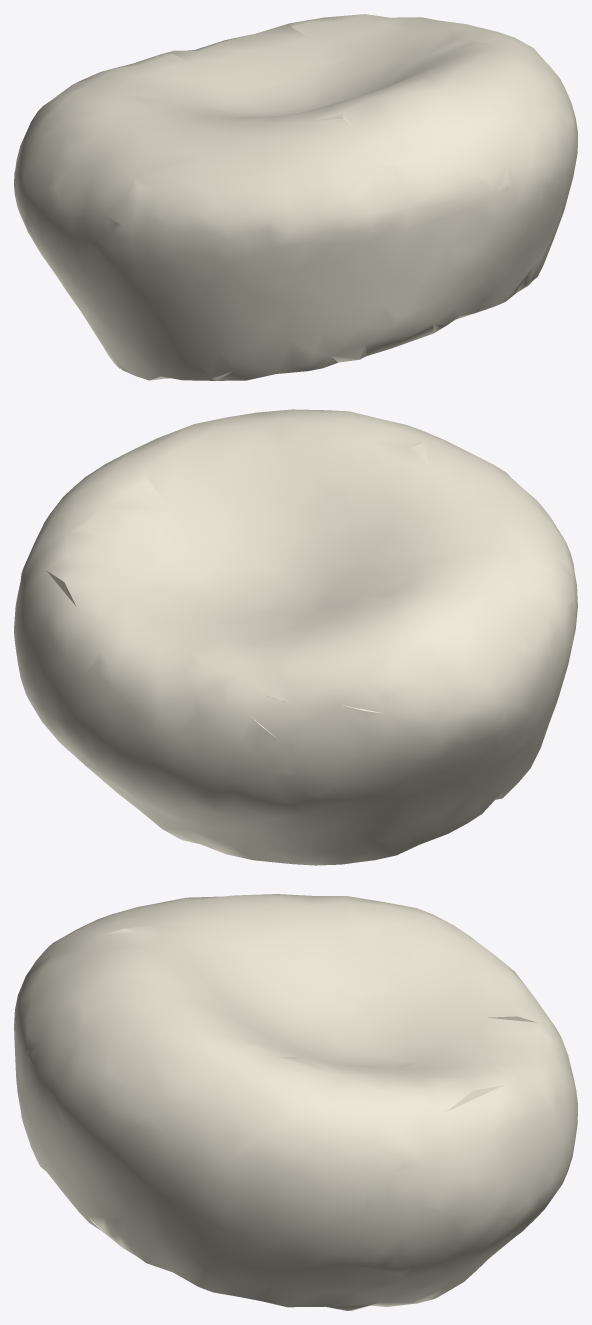
File: fma39781_mm1908m.glb
3 renders of one model, top to bottom at view 1: azimuth 30°, elevation 25°; view 2: azimuth 150°, elevation 25°; view 3: azimuth 270°, elevation 25°, orthographic. The views are drawn at different scales.
Visible parts, largest first — view 1: FMA39781_MM1908M; view 2: FMA39781_MM1908M; view 3: FMA39781_MM1908M.
Boxes of the visible parts, bbox=[...] form: FMA39781_MM1908M: bbox=[14, 14, 577, 380]; FMA39781_MM1908M: bbox=[14, 409, 577, 865]; FMA39781_MM1908M: bbox=[14, 894, 577, 1310].
Size of the model in its own units: 0.022 by 0.0132 by 0.0207.
